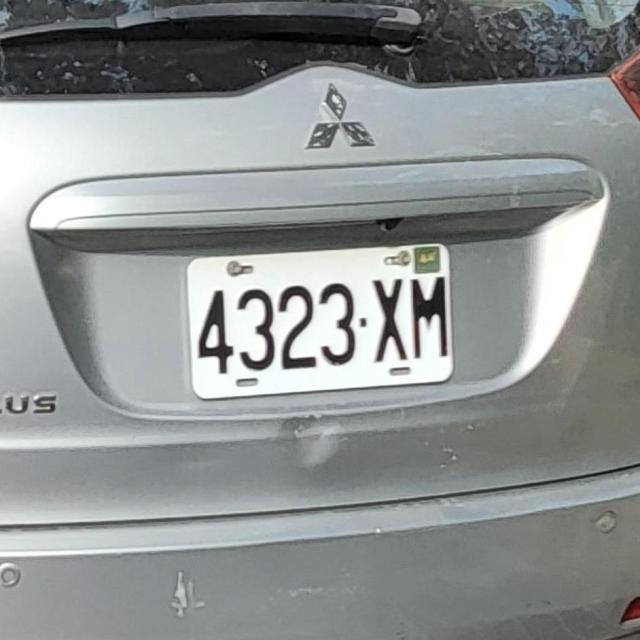W: (179, 232, 464, 406)
